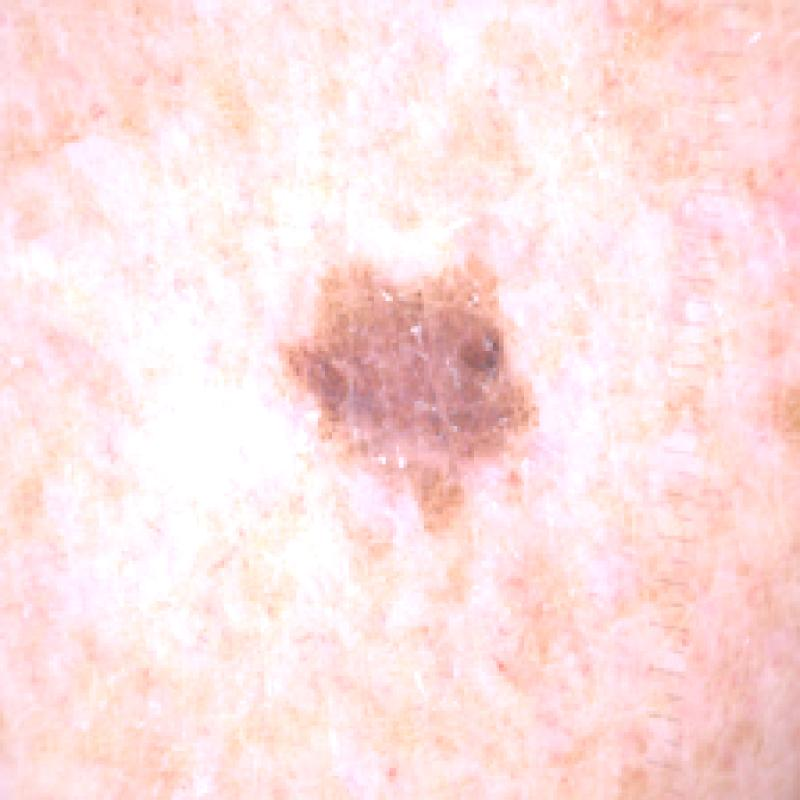benign: (238, 224, 574, 548)
